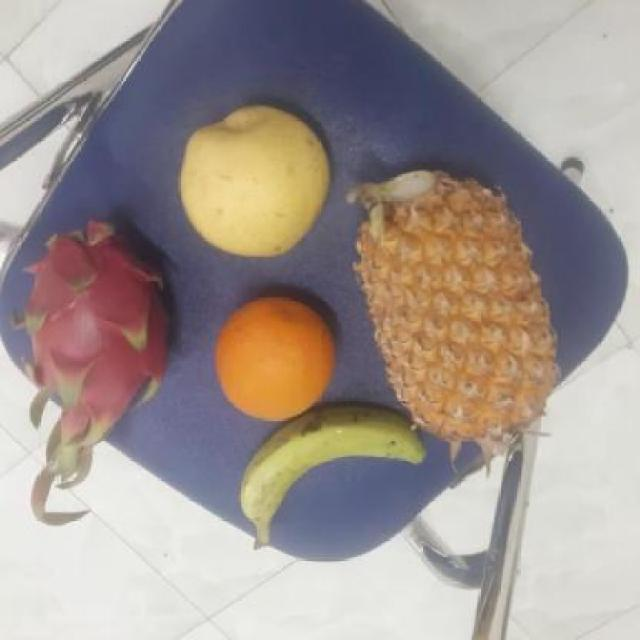banana: (242, 410, 425, 548)
dragon fruit: (9, 213, 186, 444)
oren: (213, 294, 342, 418)
pear: (184, 107, 345, 256)
pineapple: (353, 165, 564, 440)
